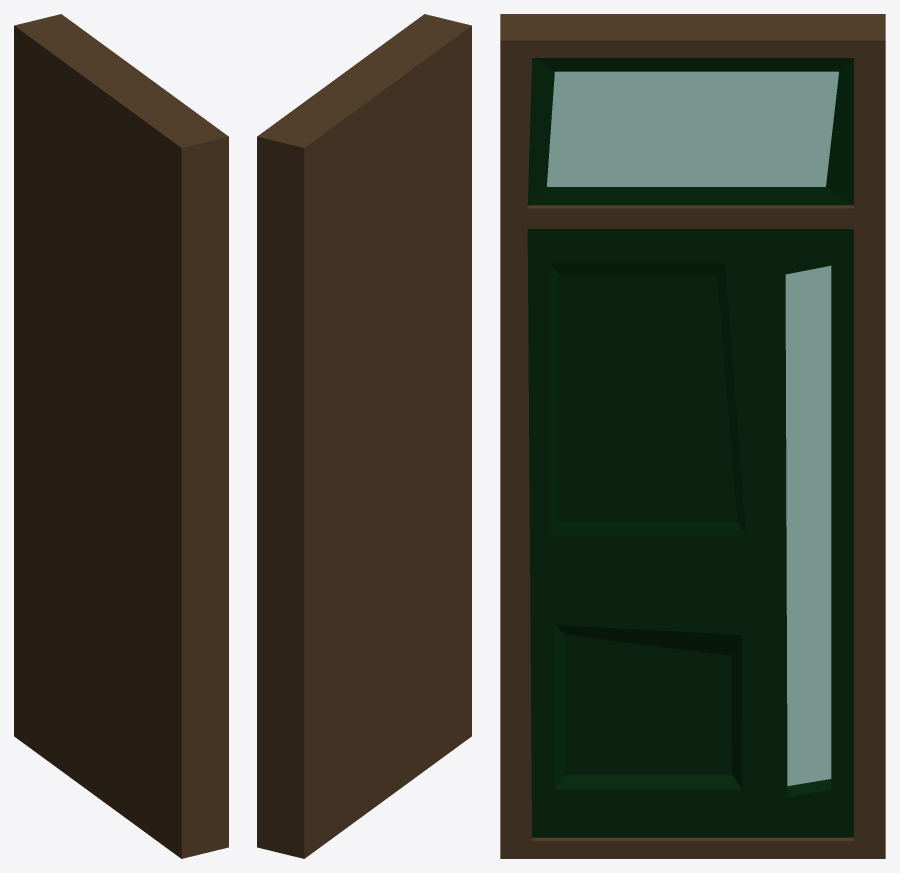
Rendered from Door17.fbx.
3 views of the same model, side by side, from view 1: azimuth 30°, elevation 25°; view 2: azimuth 150°, elevation 25°; view 3: azimuth 270°, elevation 25° (orthographic). The views are drawn at different scales.
Parts seen in each view (by area): view 1: Cube.038; view 2: Cube.038; view 3: Cube.038.
Boxes of the visible parts, x1,y1,x2,y2 form: Cube.038: [14, 14, 228, 858]; Cube.038: [257, 14, 471, 858]; Cube.038: [500, 14, 885, 858].
Size of the model in its own units: 18.61 by 268 by 114.
